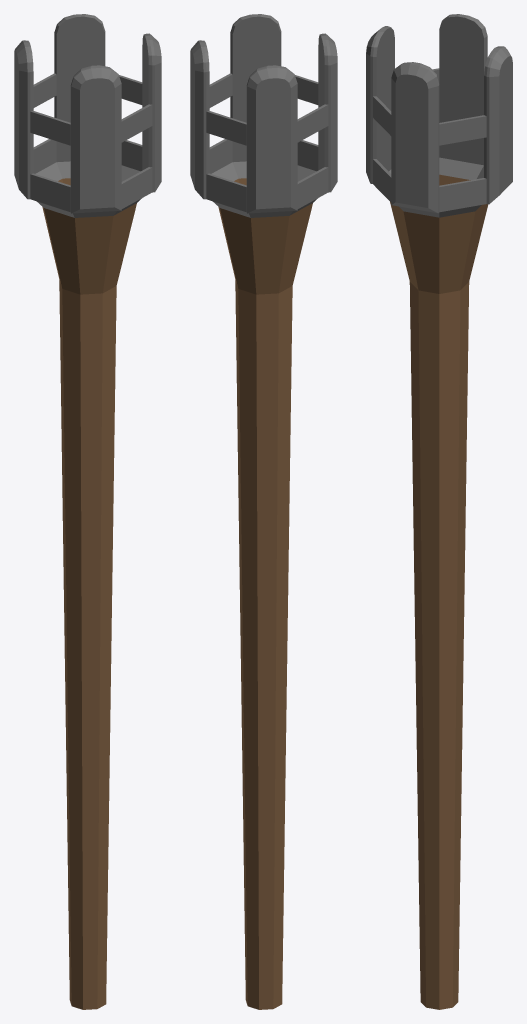
File: Long Torch.fbx
The picture shows the model from 3 angles, left to right: view 1: azimuth 30°, elevation 25°; view 2: azimuth 210°, elevation 25°; view 3: azimuth 270°, elevation 25°; orthographic projection.
Parts seen in each view (by area): view 1: Long Torch; view 2: Long Torch; view 3: Long Torch.
Part boxes in pixels (x1,y1,x2,y2): Long Torch: (14, 14, 161, 1009); Long Torch: (190, 14, 337, 1009); Long Torch: (366, 14, 512, 1009).
Bounding box in the file's own units: 0.796 × 5.76 × 0.796.
